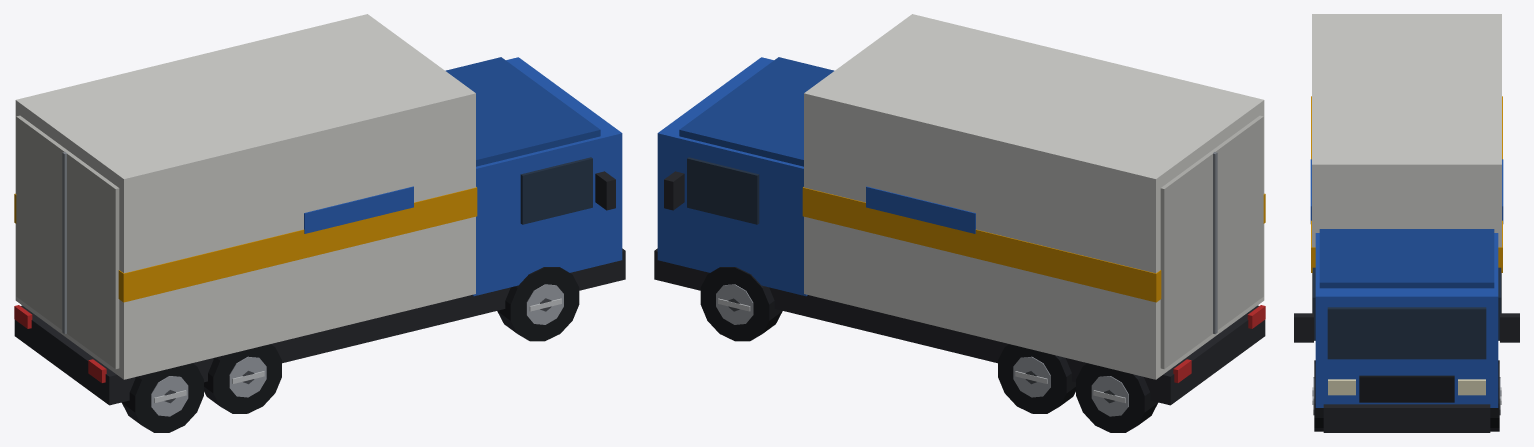
The model's file is truck.glb.
3 views of the same model, side by side, from view 1: azimuth 30°, elevation 25°; view 2: azimuth 150°, elevation 25°; view 3: azimuth 270°, elevation 25° (orthographic). The views are drawn at different scales.
Parts seen in each view (by area): view 1: gh_truck__body, gh_truck__wheel0, gh_truck__wheel4, gh_truck__wheel2; view 2: gh_truck__body, gh_truck__wheel1, gh_truck__wheel5, gh_truck__wheel3; view 3: gh_truck__body, gh_truck__wheel0, gh_truck__wheel1.
Part boxes in pixels (x1,y1,x2,y2): gh_truck__body: (14, 14, 625, 405); gh_truck__wheel0: (497, 267, 579, 341); gh_truck__wheel4: (121, 363, 203, 432); gh_truck__wheel2: (204, 344, 281, 413); gh_truck__body: (654, 14, 1265, 405); gh_truck__wheel1: (700, 267, 782, 341); gh_truck__wheel5: (1076, 363, 1158, 432); gh_truck__wheel3: (998, 344, 1075, 413); gh_truck__body: (1294, 14, 1519, 432); gh_truck__wheel0: (1312, 360, 1323, 431); gh_truck__wheel1: (1490, 360, 1501, 431).
Size of the model in its own units: 6.65 by 3.25 by 2.85.
